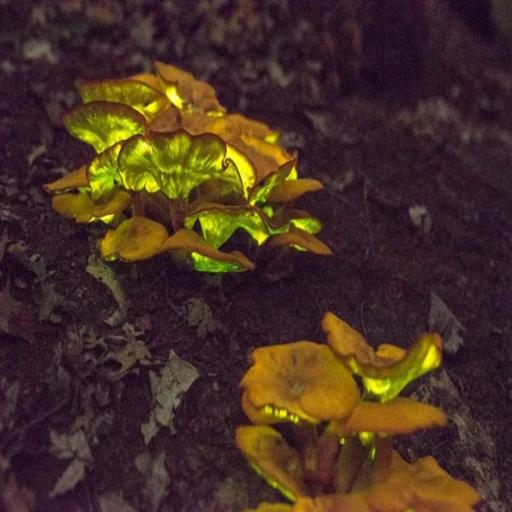Jack O Lantern Mushroom: (37, 55, 344, 282), (232, 312, 483, 511)
